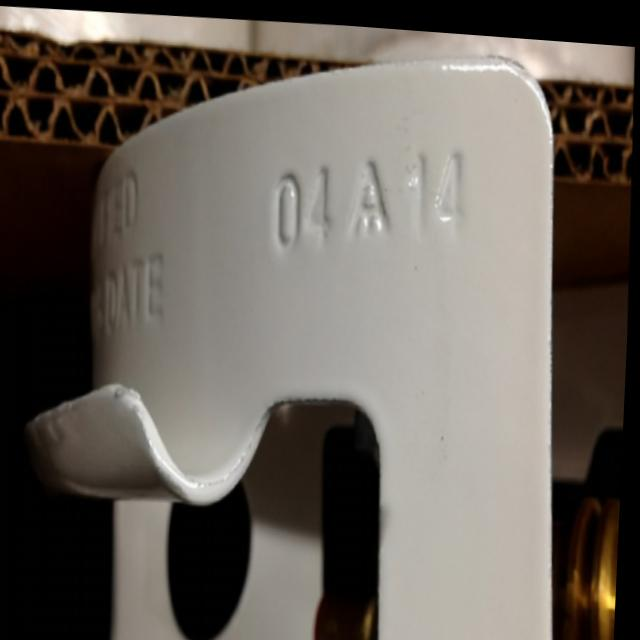ocr: (267, 130, 480, 259), (94, 234, 179, 341), (93, 157, 146, 257)
